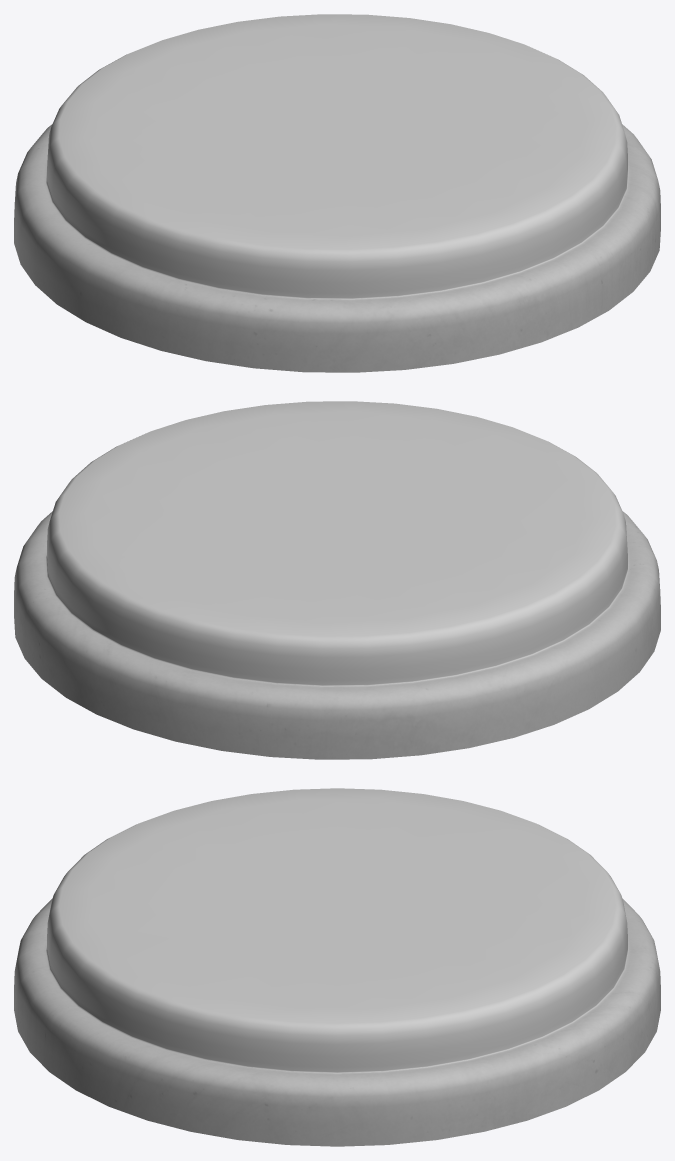
The model's file is SM_Light.fbx.
3 views of the same model, one above another, from view 1: azimuth 30°, elevation 25°; view 2: azimuth 150°, elevation 25°; view 3: azimuth 270°, elevation 25° (orthographic).
Parts seen in each view (by area): view 1: SM_Light_LOD0; view 2: SM_Light_LOD0; view 3: SM_Light_LOD0.
Part boxes in pixels (x1,y1,x2,y2): SM_Light_LOD0: (14, 14, 660, 372); SM_Light_LOD0: (14, 401, 660, 759); SM_Light_LOD0: (14, 788, 660, 1146).
Size of the model in its own units: 11.71 by 11.71 by 2.13.
2 materials, 1 textured.
